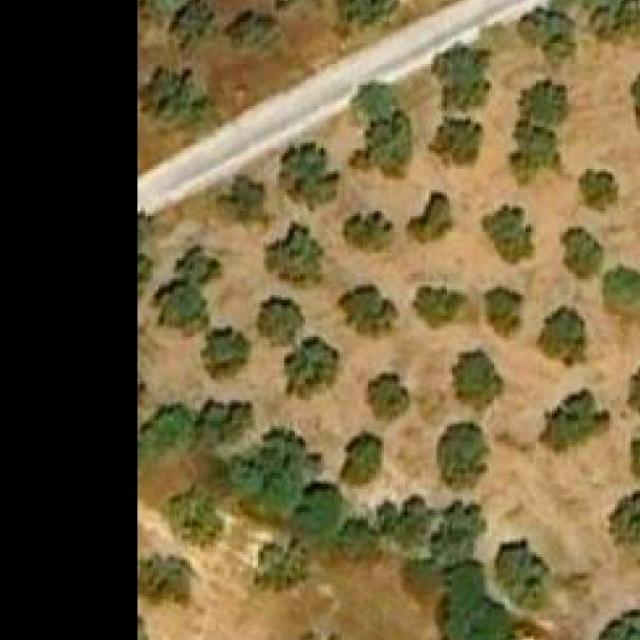Tree: (517, 0, 640, 59), (148, 246, 221, 330), (237, 437, 316, 513), (350, 82, 410, 174), (541, 387, 613, 453), (279, 143, 342, 214), (140, 67, 213, 125), (493, 536, 549, 610), (431, 46, 492, 112), (435, 423, 491, 494), (266, 225, 323, 288), (284, 337, 342, 398), (433, 500, 489, 562), (190, 398, 253, 453), (339, 284, 400, 340), (200, 321, 253, 384), (536, 304, 587, 369), (452, 350, 503, 410), (169, 489, 221, 541), (428, 116, 481, 167), (484, 206, 531, 263), (139, 554, 190, 604), (342, 436, 392, 487), (216, 178, 269, 225), (407, 190, 452, 245), (166, 0, 213, 51), (507, 129, 554, 179), (559, 227, 601, 282), (520, 80, 571, 125), (339, 515, 381, 568), (258, 295, 305, 342), (342, 211, 392, 253), (297, 484, 337, 536), (412, 288, 460, 330), (486, 287, 522, 340), (395, 494, 431, 547), (255, 548, 302, 588), (368, 374, 410, 418), (578, 169, 618, 214), (610, 492, 640, 547), (140, 209, 160, 285), (591, 609, 640, 640), (232, 12, 274, 48), (604, 267, 640, 303)
